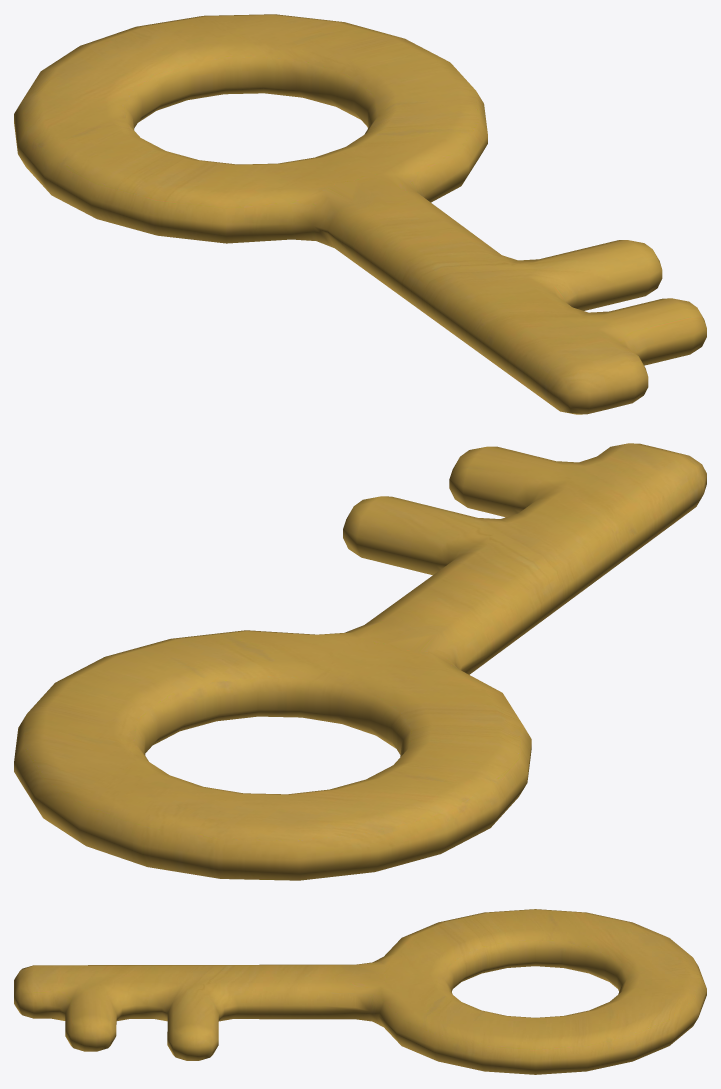
File: KeyItem.fbx
The picture shows the model from 3 angles, top to bottom: view 1: azimuth 30°, elevation 25°; view 2: azimuth 150°, elevation 25°; view 3: azimuth 270°, elevation 25°; orthographic projection. The views are drawn at different scales.
Visible parts, largest first — view 1: Key; view 2: Key; view 3: Key.
Part boxes in pixels (x1=…): Key: x1=14, y1=14, x2=706, y2=414; Key: x1=14, y1=443, x2=706, y2=880; Key: x1=14, y1=909, x2=706, y2=1074.
Size of the model in its own units: 0.9887 by 0.1151 by 2.
Materials: 1 (1 with a texture image).
